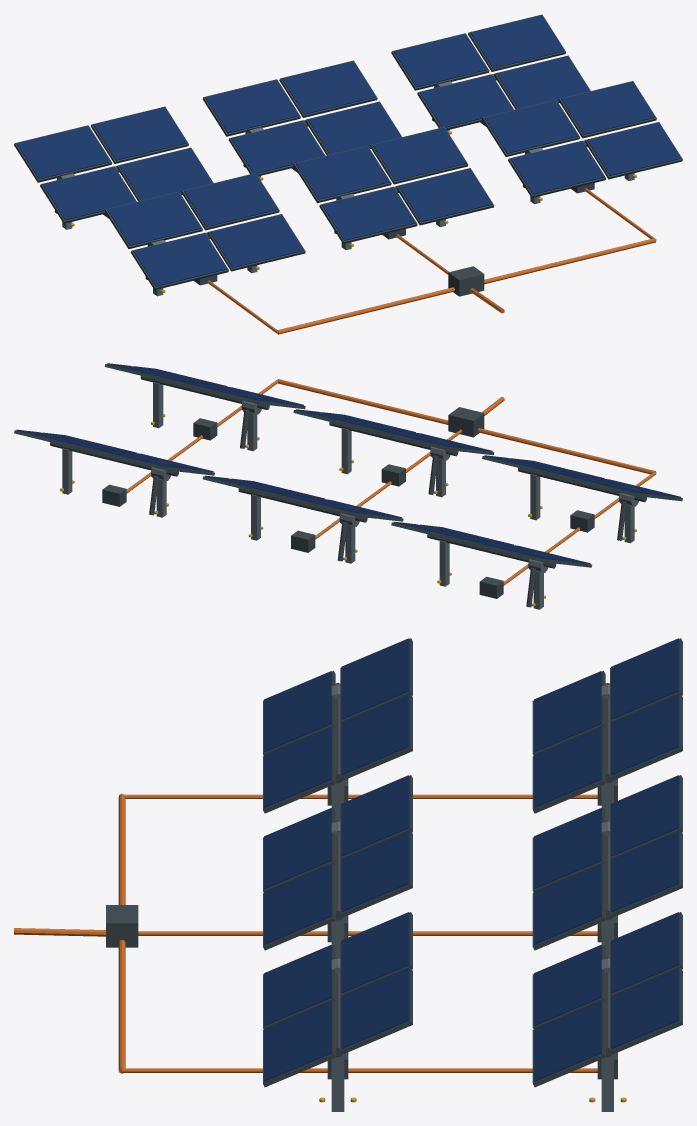
Rendered from solar_array_d0.glb.
3 renders of one model, top to bottom at view 1: azimuth 30°, elevation 25°; view 2: azimuth 150°, elevation 25°; view 3: azimuth 270°, elevation 25°, orthographic. The views are drawn at different scales.
Visible parts, largest first — view 1: SOLAR_GAME_MESH; view 2: SOLAR_GAME_MESH; view 3: SOLAR_GAME_MESH.
Boxes of the visible parts, x1,y1,x2,y2 form: SOLAR_GAME_MESH: (14,14,682,334); SOLAR_GAME_MESH: (14,363,682,609); SOLAR_GAME_MESH: (14,638,682,1111).
Bounding box in the file's own units: 16.79 × 2.24 × 12.39.
